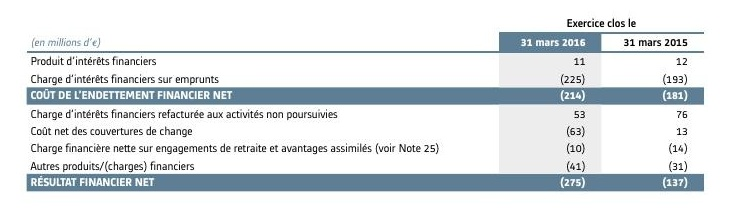table: (0, 0, 732, 208)
